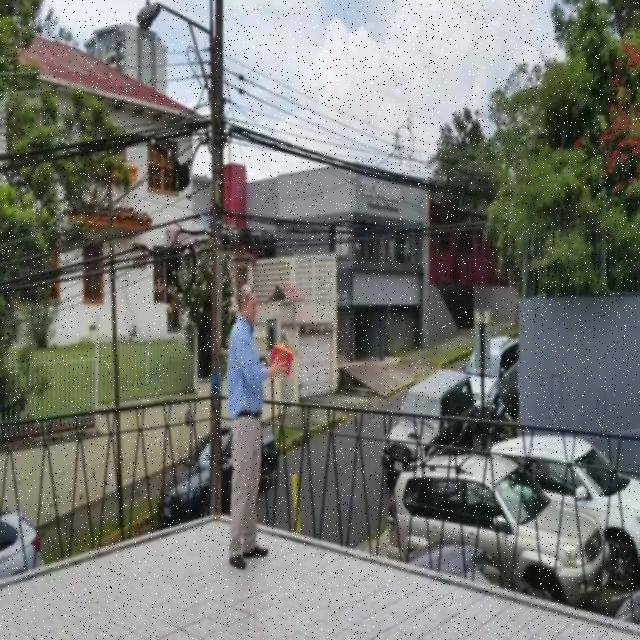UAV: (269, 286, 297, 302)
